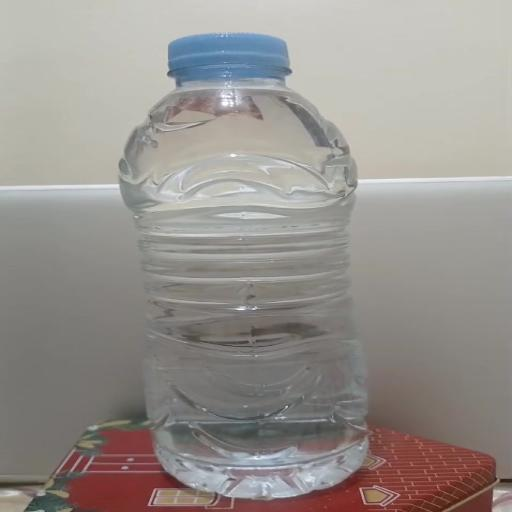bouteilles: (107, 29, 417, 497)
